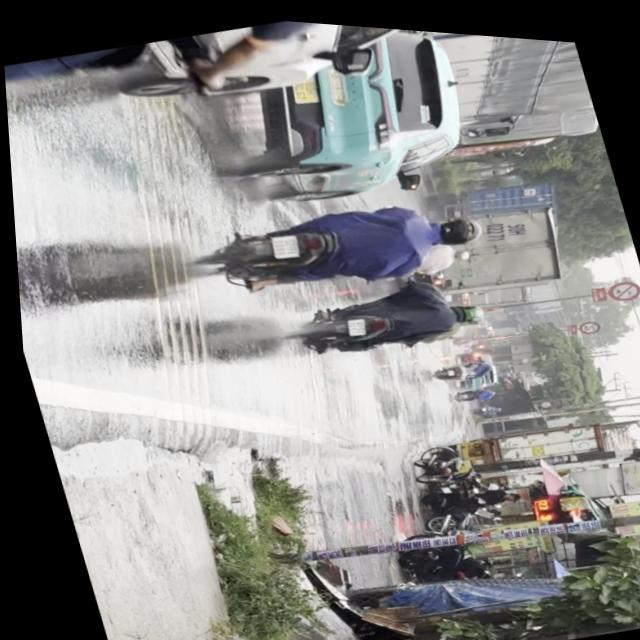helmet: (427, 201, 485, 244), (450, 293, 483, 319)
licenseplate: (182, 162, 495, 320), (279, 260, 491, 371)
nohelmet: (266, 227, 298, 256), (341, 310, 363, 332)
